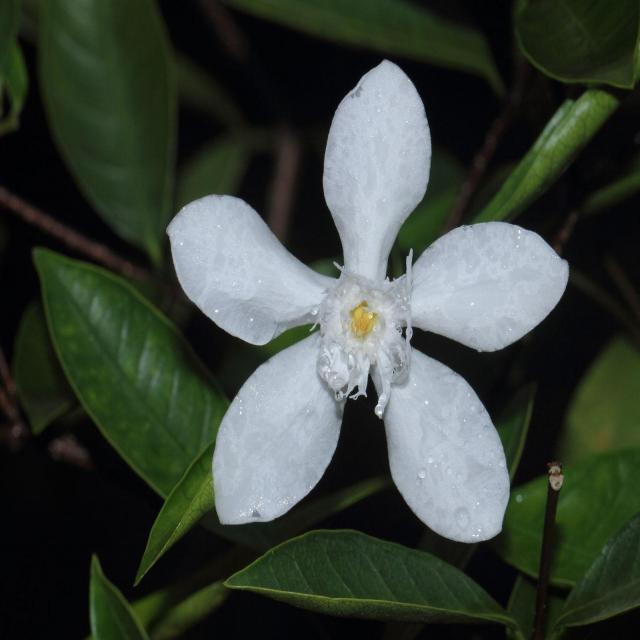organic waste: (158, 41, 570, 546)
